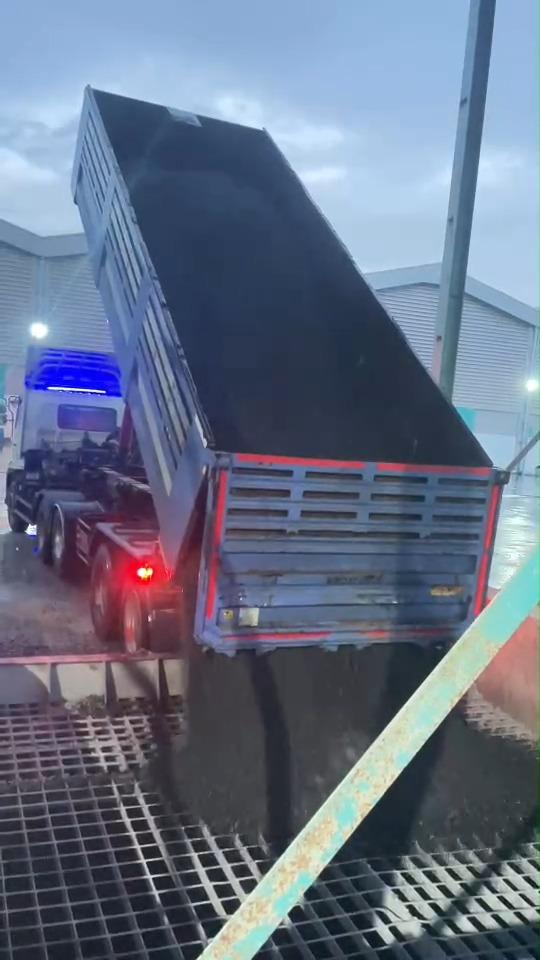gravel: (136, 173, 389, 459), (146, 644, 445, 852), (357, 712, 533, 855)
